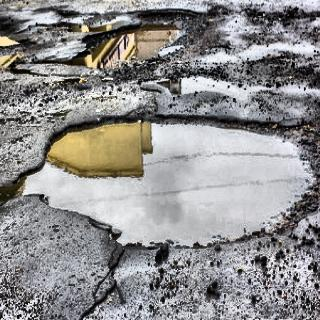crack: (76, 247, 128, 320)
pothole: (8, 105, 320, 252), (46, 8, 203, 68)
